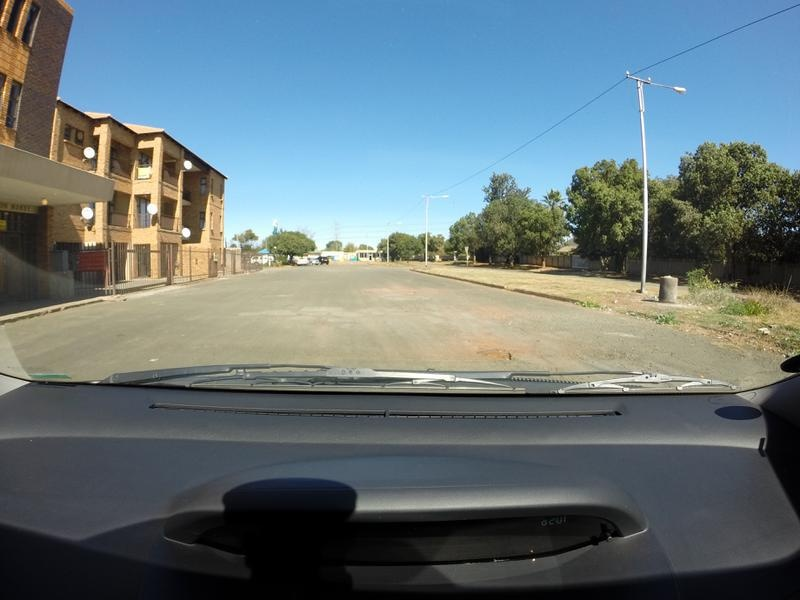pothole: (477, 347, 515, 358), (587, 349, 622, 359)
